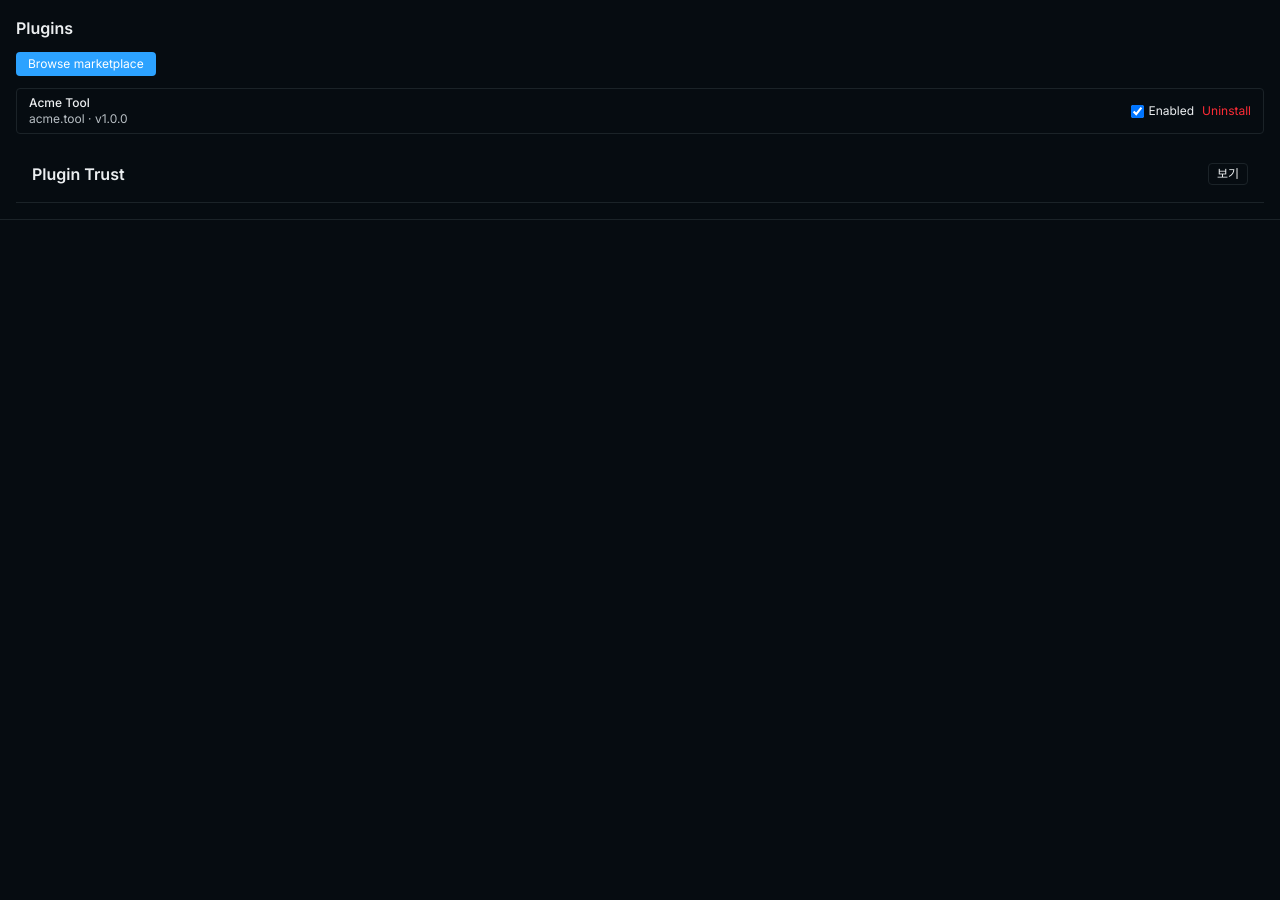
Test case: SettingsPlugins › opens the marketplace dialog
Expected: the text "Acme Tool" is shown, [29,95,90,110]
Click the button "Browse marketplace" at coordinates (86, 64), box [16,52,156,76]
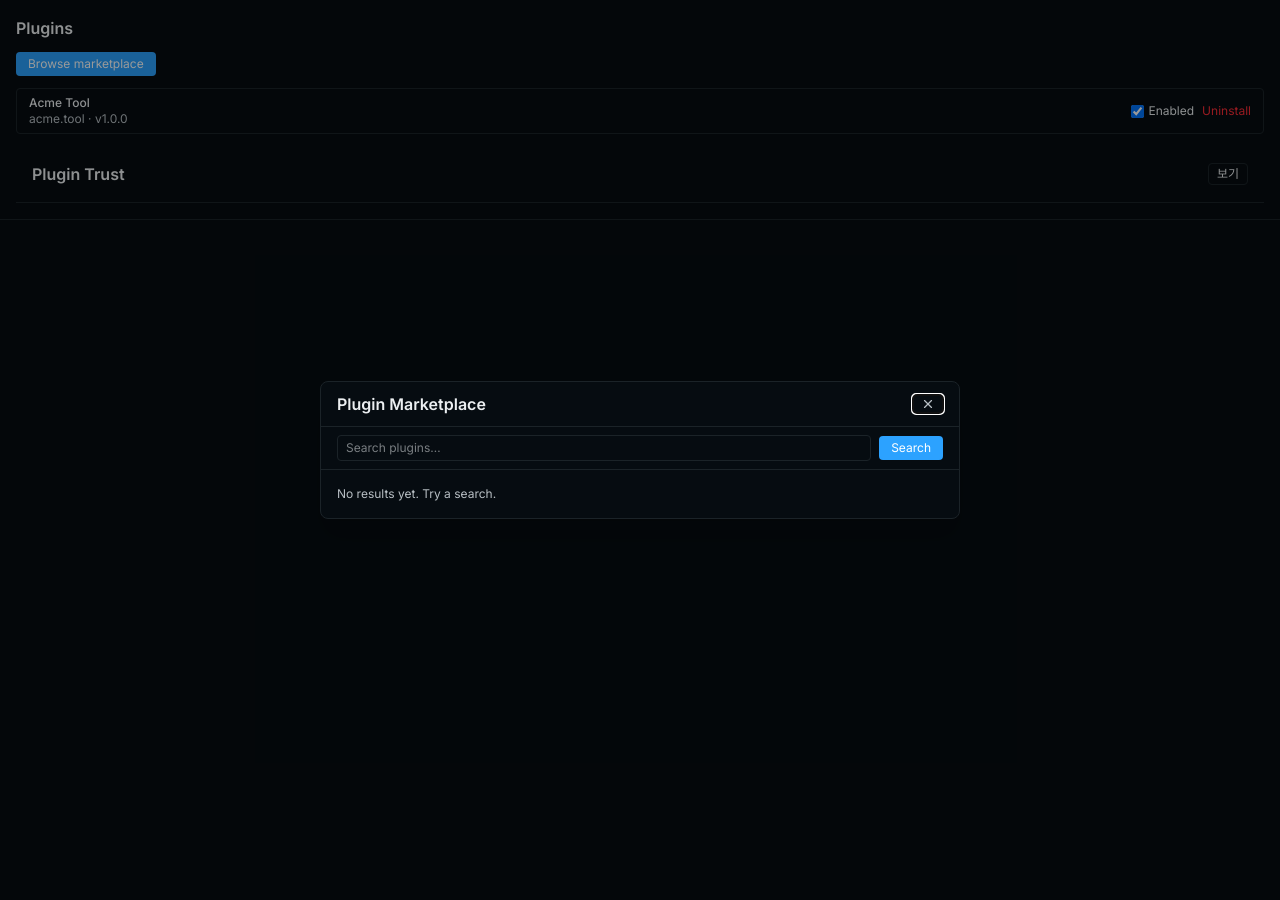
Expected: the heading "Plugin Marketplace" is shown, [337,392,486,416]
